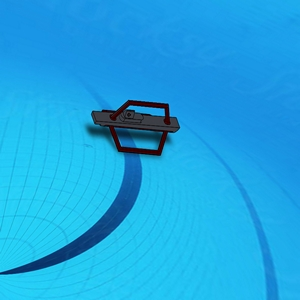submarine: (92, 98, 182, 160)
